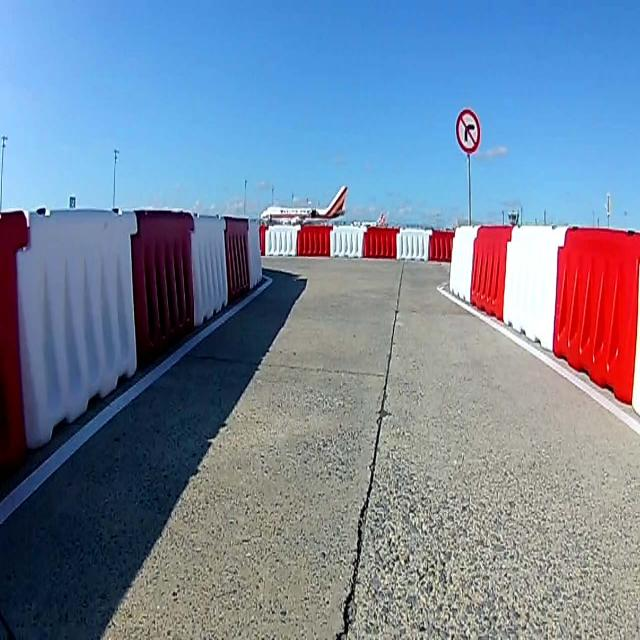sagadonulmez: (456, 110, 480, 154)
